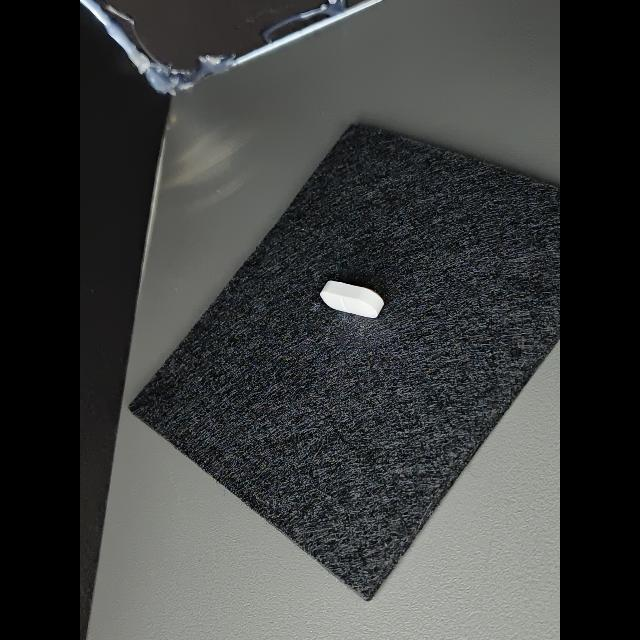Intact Pill: (320, 280, 384, 318)
